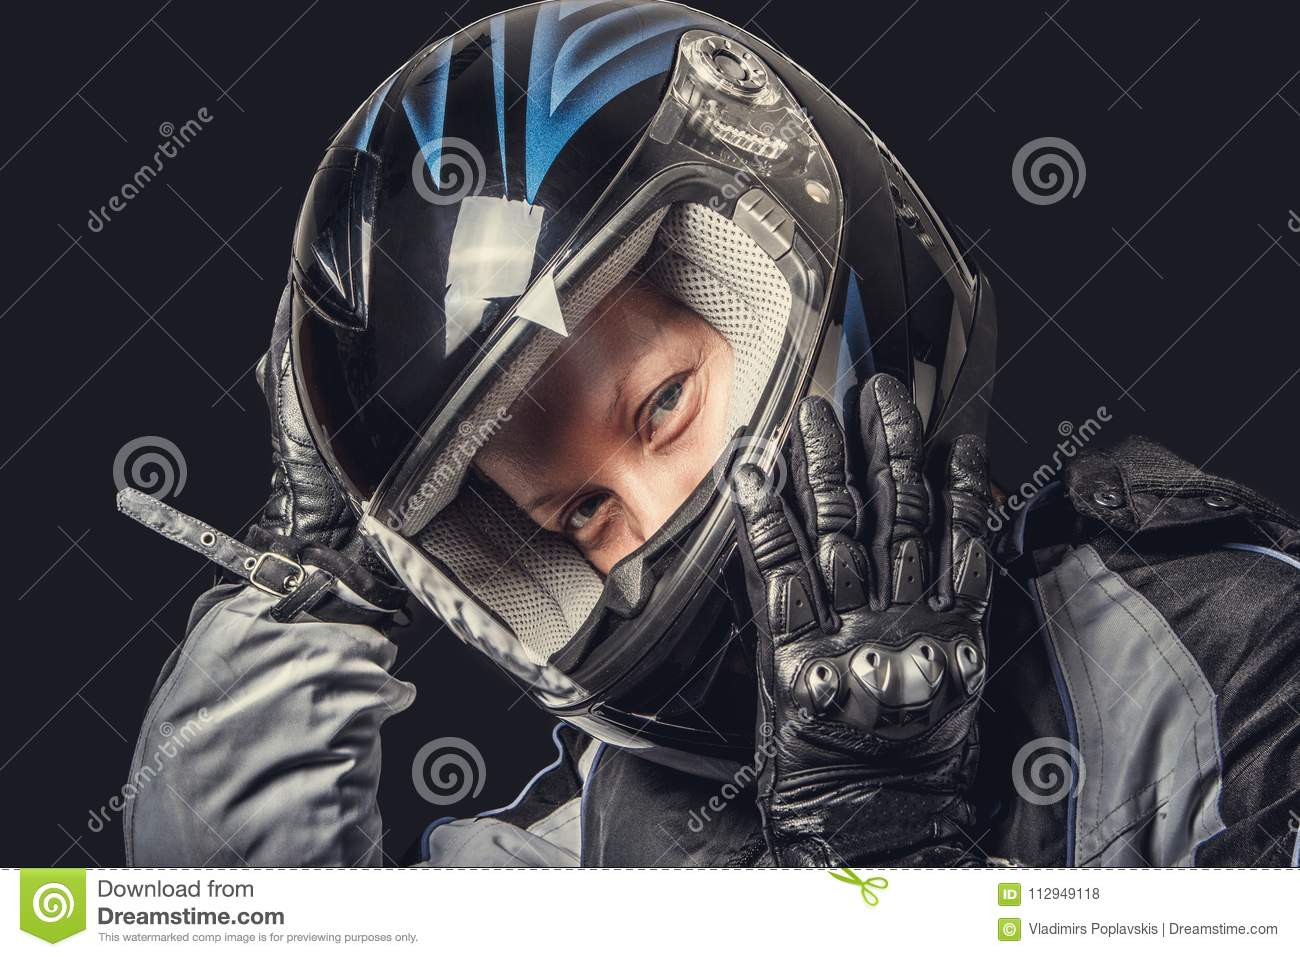helmet: (290, 51, 996, 789)
